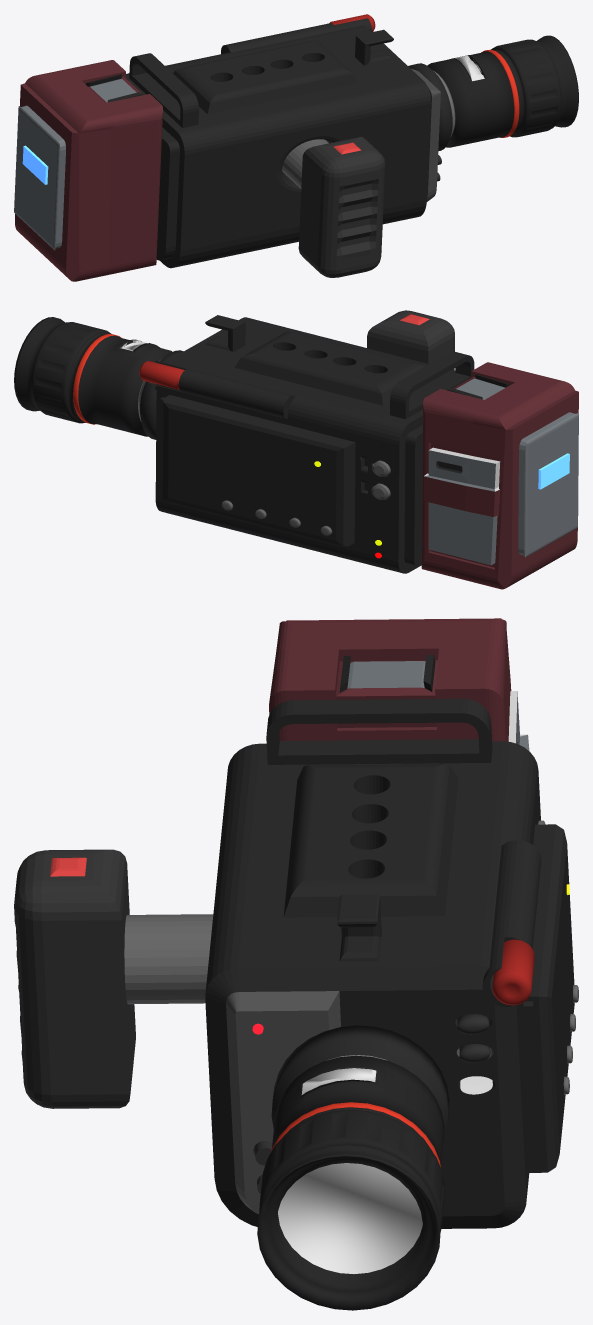
The model's file is video_camera.glb.
The picture shows the model from 3 angles, top to bottom: view 1: azimuth 30°, elevation 25°; view 2: azimuth 150°, elevation 25°; view 3: azimuth 270°, elevation 25°; orthographic projection. The views are drawn at different scales.
Visible parts, largest first — view 1: Cube.007, Cube.006, Cylinder.039_Material.015_0, Cube.004, Cylinder.038, Cylinder.040, Cube.005, Cylinder.021, Cylinder.039_Material.013_0; view 2: Cube.007, Cube.006, Cylinder.039_Material.015_0, Cube.004, Cylinder.038, Cylinder.040, Cube.005, Cylinder.036, Cylinder.039_Material.013_0; view 3: Cube.007, Cube.004, Cylinder.039_Material.015_0, Cube.006, lens.001, Cylinder.021, Cylinder.040, Cylinder.038, Cube.005, Cylinder.036, Cylinder.039_Material.013_0.
Boxes of the visible parts, box(x1,y1,x2,y2) form: Cube.007: box(126, 25, 440, 268); Cube.006: box(14, 60, 162, 281); Cylinder.039_Material.015_0: box(427, 35, 578, 147); Cube.004: box(298, 136, 385, 277); Cylinder.038: box(221, 18, 372, 53); Cylinder.040: box(408, 63, 455, 151); Cube.005: box(355, 29, 393, 65); Cylinder.021: box(282, 139, 328, 188); Cylinder.039_Material.013_0: box(481, 49, 519, 137); Cube.007: box(155, 317, 474, 573); Cube.006: box(421, 362, 578, 589); Cylinder.039_Material.015_0: box(14, 317, 172, 436); Cube.004: box(367, 310, 454, 370); Cylinder.038: box(148, 360, 295, 418); Cylinder.040: box(138, 350, 183, 439); Cube.005: box(205, 315, 245, 351); Cylinder.036: box(139, 361, 184, 389); Cylinder.039_Material.013_0: box(73, 334, 121, 424); Cube.007: box(205, 698, 574, 1228); Cube.004: box(14, 849, 135, 1108); Cylinder.039_Material.015_0: box(257, 1055, 444, 1310); Cube.006: box(269, 618, 529, 750); lens.001: box(278, 1163, 422, 1273); Cylinder.021: box(124, 914, 213, 1004); Cylinder.040: box(271, 1025, 449, 1140); Cylinder.038: box(482, 840, 541, 1007); Cube.005: box(337, 894, 381, 961); Cylinder.036: box(492, 939, 534, 1005); Cylinder.039_Material.013_0: box(271, 1102, 440, 1167).
Bounding box in the file's own units: 2.17 × 0.73 × 1.11.
